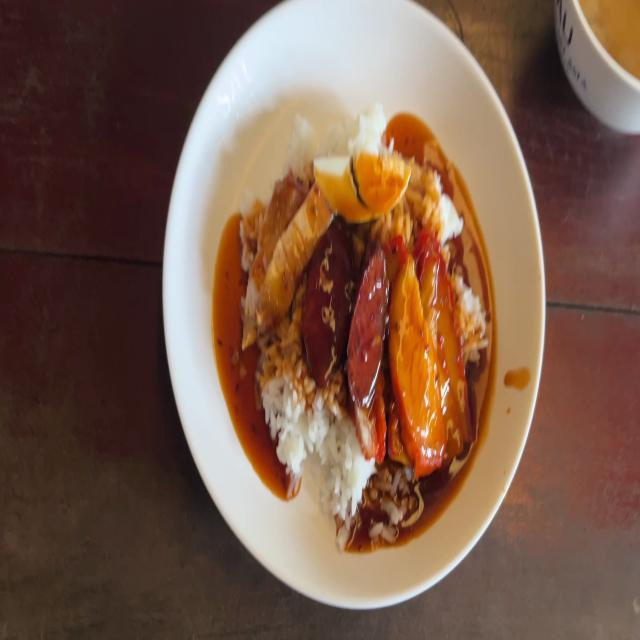red_pork_and_crispy_pork: (313, 154, 411, 222)
stir_fried_basil: (302, 228, 389, 396)
